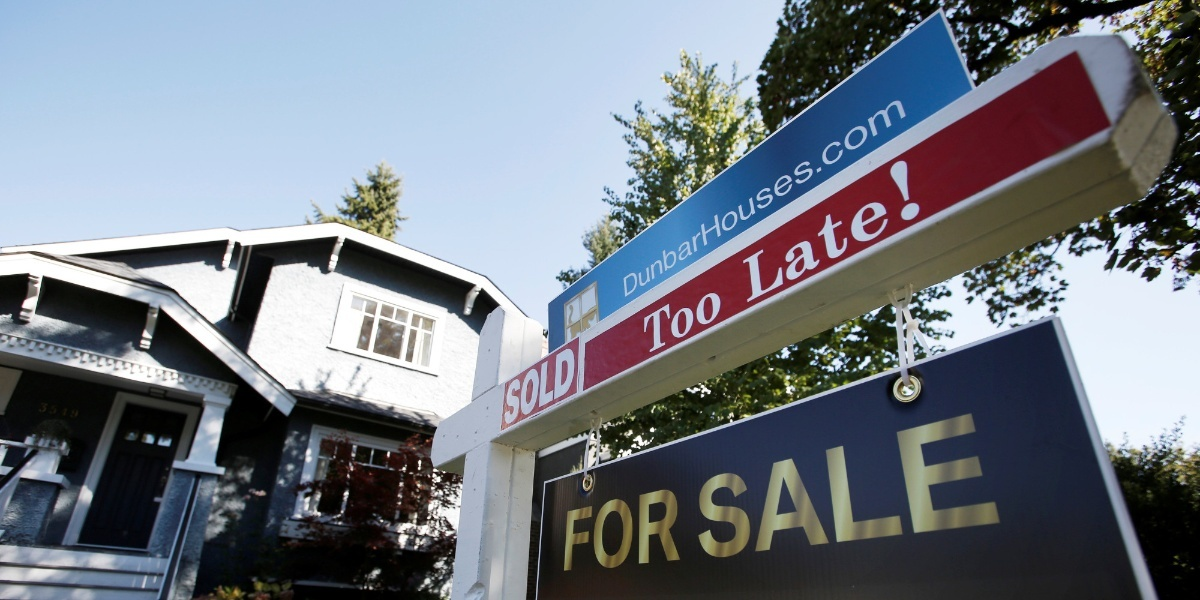text: (897, 88, 913, 302), (625, 88, 640, 302), (641, 88, 656, 302), (657, 88, 672, 302), (673, 88, 688, 302), (689, 88, 704, 302), (705, 88, 720, 302), (721, 88, 736, 302), (737, 88, 752, 302), (753, 88, 768, 302), (769, 88, 784, 302), (785, 88, 800, 302), (801, 88, 816, 302), (817, 88, 832, 302), (833, 88, 848, 302), (849, 88, 864, 302), (865, 88, 880, 302), (881, 88, 896, 302), (737, 151, 752, 307), (753, 151, 768, 307), (769, 151, 784, 307), (785, 151, 800, 307), (801, 151, 816, 307), (817, 151, 832, 307), (833, 151, 848, 307), (849, 151, 864, 307), (865, 151, 880, 307), (881, 151, 896, 307), (897, 151, 912, 307), (705, 409, 720, 560), (721, 409, 736, 560), (737, 409, 752, 560), (753, 409, 768, 560), (769, 409, 784, 560), (785, 409, 800, 560), (801, 409, 816, 560), (817, 409, 832, 560), (833, 409, 848, 560), (849, 409, 864, 560), (865, 409, 880, 560), (881, 409, 896, 560), (897, 409, 912, 560), (913, 409, 928, 560), (929, 409, 944, 560), (945, 409, 960, 560), (961, 409, 976, 560), (977, 409, 992, 560), (993, 409, 1008, 560), (913, 151, 927, 307), (693, 409, 704, 560), (513, 338, 528, 430), (529, 338, 544, 430), (545, 338, 560, 430), (561, 338, 576, 430), (577, 485, 592, 573), (593, 485, 608, 573), (609, 485, 624, 573), (625, 485, 640, 573), (641, 485, 656, 573), (657, 485, 672, 573), (657, 274, 672, 359), (673, 274, 688, 359), (689, 274, 704, 359), (705, 274, 720, 359), (643, 274, 656, 359), (619, 88, 624, 302), (565, 485, 576, 573), (673, 485, 684, 573), (721, 274, 727, 359), (49, 397, 64, 423), (65, 397, 80, 423), (508, 338, 512, 430), (37, 397, 48, 423), (577, 338, 580, 430), (81, 397, 83, 423)
